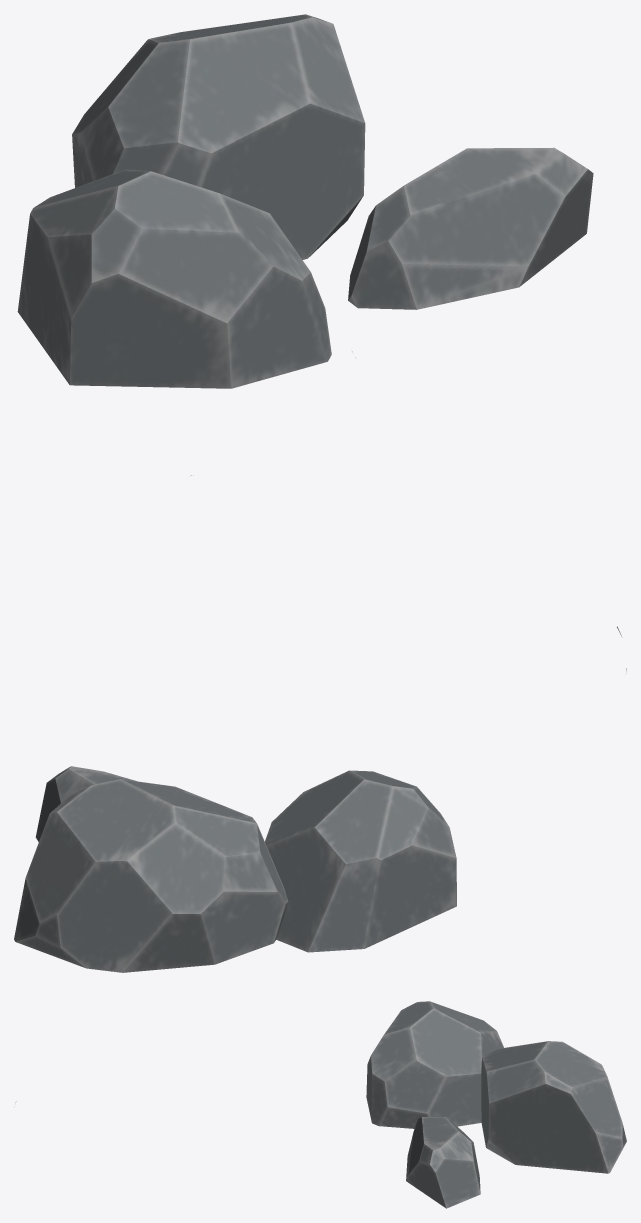
Rendered from Rocks3.glb.
3 views of the same model, one above another, from view 1: azimuth 30°, elevation 25°; view 2: azimuth 150°, elevation 25°; view 3: azimuth 270°, elevation 25° (orthographic). The views are drawn at different scales.
Parts seen in each view (by area): view 1: Cube.001; view 2: Cube.001; view 3: Cube.001.
Boxes of the visible parts, left/top/right/bottom form: Cube.001: left=17, top=14, right=622, bottom=637; Cube.001: left=14, top=668, right=626, bottom=972; Cube.001: left=15, top=1001, right=626, bottom=1208.
Bounding box in the file's own units: 0.5535 × 0.2361 × 1.06.
Materials: 1 (1 with a texture image).
